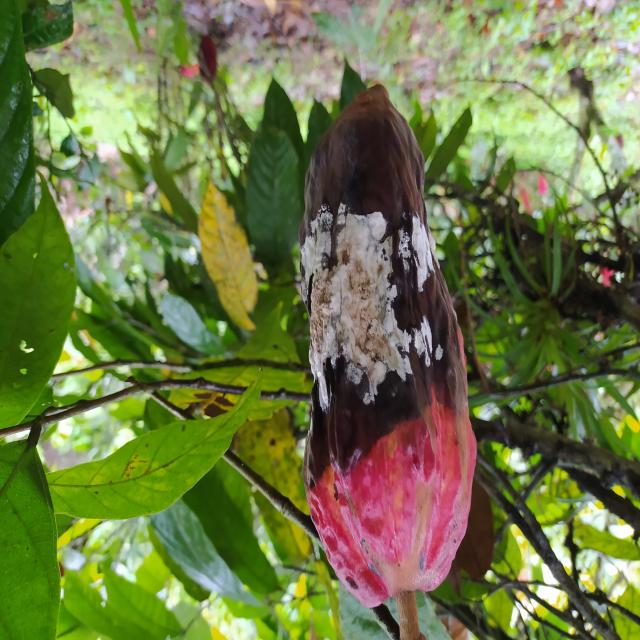Monilia: (298, 80, 476, 598)
